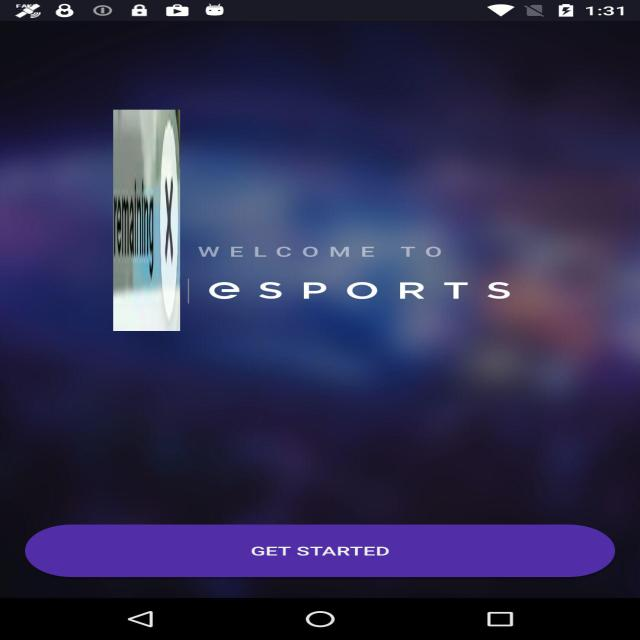misdirection: (113, 110, 180, 331)
